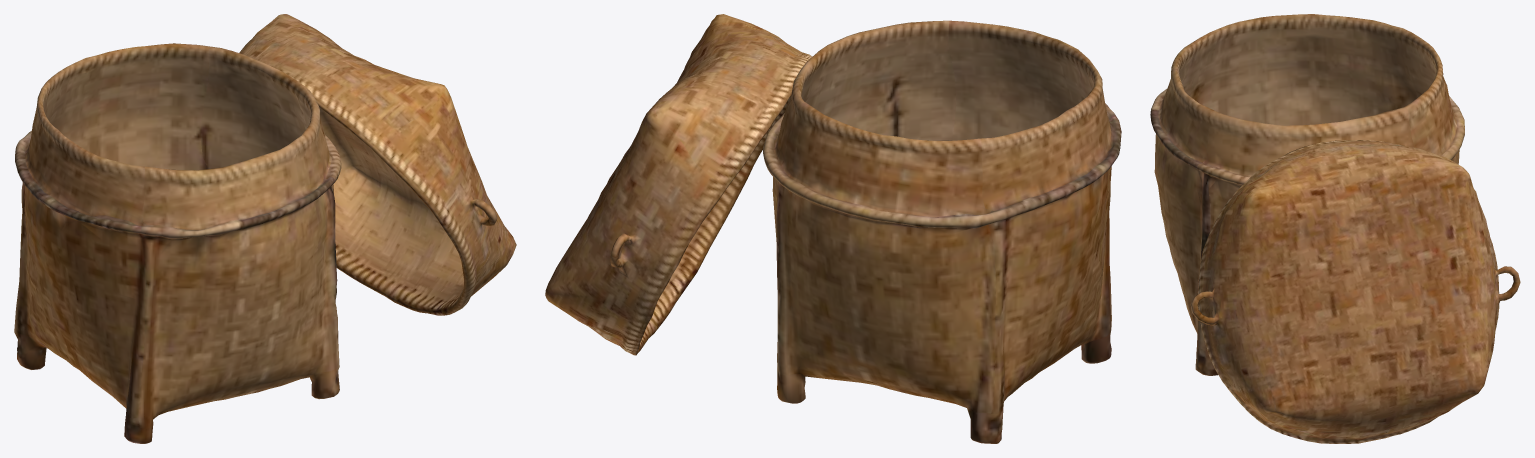
The model's file is basket-rattan.glb.
The picture shows the model from 3 angles, left to right: view 1: azimuth 30°, elevation 25°; view 2: azimuth 150°, elevation 25°; view 3: azimuth 270°, elevation 25°; orthographic projection. The views are drawn at different scales.
Parts seen in each view (by area): view 1: wicker_basket_02_base; view 2: wicker_basket_02_base; view 3: wicker_basket_02_base.
Part boxes in pixels (x1=…): wicker_basket_02_base: x1=14, y1=14, x2=516, y2=443; wicker_basket_02_base: x1=545, y1=14, x2=1121, y2=443; wicker_basket_02_base: x1=1150, y1=14, x2=1520, y2=443.
Bounding box in the file's own units: 0.3469 × 0.2005 × 0.2545.
Materials: 1 (1 with a texture image).
